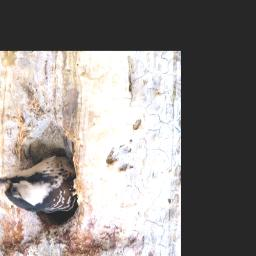Woodpecker: (0, 152, 75, 218)
